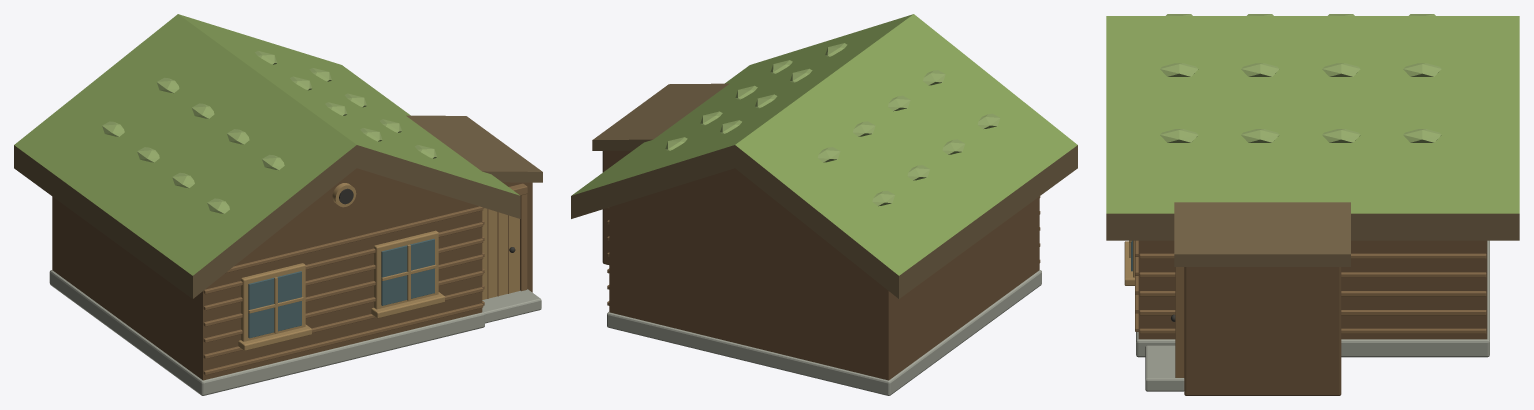
The model's file is small_turf_cabin.glb.
3 renders of one model, left to right at view 1: azimuth 30°, elevation 25°; view 2: azimuth 150°, elevation 25°; view 3: azimuth 270°, elevation 25°, orthographic. The views are drawn at different scales.
Parts seen in each view (by area): view 1: Turf cabin single thick earth and sod roof, Turf cabin closed timber main body, Turf cabin shallow stone plinth, Turf cabin side entry lean-to roof, Turf cabin side entry door closed door slab, Turf cabin front window right dark glazing, Turf cabin front window left dark glazing, Turf cabin front horizontal timber course, Turf cabin front horizontal timber course.006, Turf cabin front window left timber surround, Turf cabin front window right timber surround, Turf cabin entry stone step (+9 smaller); view 2: Turf cabin single thick earth and sod roof, Turf cabin closed timber main body, Turf cabin shallow stone plinth, Turf cabin side entry lean-to roof, Turf cabin enclosed side entry; view 3: Turf cabin single thick earth and sod roof, Turf cabin enclosed side entry, Turf cabin closed timber main body, Turf cabin side entry lean-to roof, Turf cabin shallow stone plinth, Turf cabin entry stone step, Turf cabin side entry door door jamb.001, Turf cabin side horizontal timber course.003, Turf cabin side horizontal timber course, Turf cabin side horizontal timber course.002, Turf cabin side horizontal timber course.001, Turf cabin side horizontal timber course.004 (+8 smaller).
Boxes of the visible parts, x1=… form: Turf cabin single thick earth and sod roof: x1=14, y1=14, x2=520, y2=298; Turf cabin closed timber main body: x1=52, y1=168, x2=482, y2=380; Turf cabin shallow stone plinth: x1=49, y1=270, x2=484, y2=395; Turf cabin side entry lean-to roof: x1=406, y1=115, x2=542, y2=182; Turf cabin side entry door closed door slab: x1=482, y1=208, x2=519, y2=299; Turf cabin front window right dark glazing: x1=381, y1=238, x2=434, y2=305; Turf cabin front window left dark glazing: x1=248, y1=271, x2=301, y2=338; Turf cabin front horizontal timber course: x1=203, y1=303, x2=483, y2=375; Turf cabin front horizontal timber course.006: x1=225, y1=206, x2=483, y2=273; Turf cabin front window left timber surround: x1=241, y1=263, x2=305, y2=341; Turf cabin front window right timber surround: x1=374, y1=230, x2=438, y2=309; Turf cabin entry stone step: x1=482, y1=289, x2=541, y2=323; Turf cabin single thick earth and sod roof: x1=571, y1=14, x2=1077, y2=298; Turf cabin closed timber main body: x1=609, y1=168, x2=1039, y2=380; Turf cabin shallow stone plinth: x1=607, y1=270, x2=1041, y2=395; Turf cabin side entry lean-to roof: x1=592, y1=83, x2=729, y2=150; Turf cabin enclosed side entry: x1=602, y1=150, x2=632, y2=264; Turf cabin single thick earth and sod roof: x1=1106, y1=16, x2=1519, y2=240; Turf cabin enclosed side entry: x1=1184, y1=267, x2=1341, y2=395; Turf cabin closed timber main body: x1=1138, y1=240, x2=1487, y2=339; Turf cabin side entry lean-to roof: x1=1174, y1=202, x2=1350, y2=266; Turf cabin shallow stone plinth: x1=1136, y1=240, x2=1489, y2=357; Turf cabin entry stone step: x1=1145, y1=345, x2=1184, y2=391; Turf cabin side entry door door jamb.001: x1=1175, y1=267, x2=1184, y2=377; Turf cabin side horizontal timber course.003: x1=1139, y1=272, x2=1486, y2=277; Turf cabin side horizontal timber course: x1=1139, y1=328, x2=1486, y2=333; Turf cabin side horizontal timber course.002: x1=1139, y1=291, x2=1486, y2=296; Turf cabin side horizontal timber course.001: x1=1139, y1=310, x2=1486, y2=315; Turf cabin side horizontal timber course.004: x1=1139, y1=253, x2=1486, y2=258.
Bounding box in the file's own units: 6.25 × 3.57 × 5.1.
